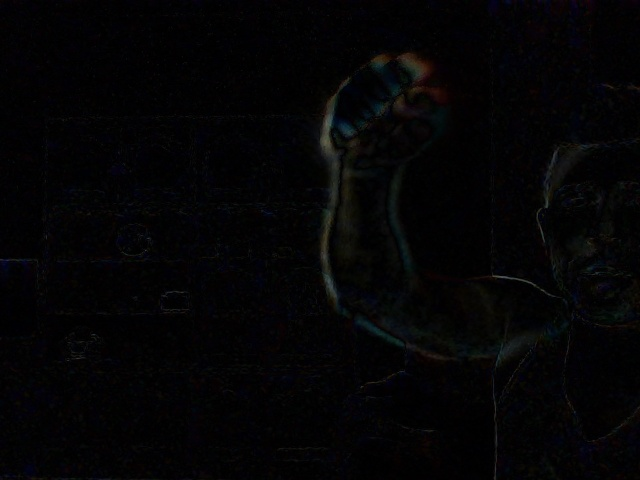hand_fi: (312, 40, 448, 171)
